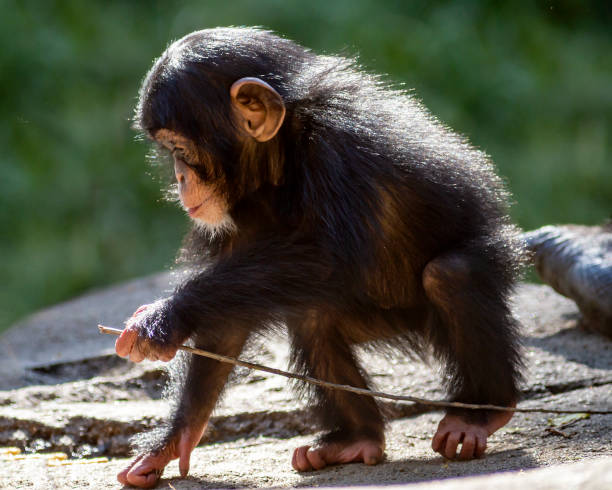chimpanzee: (111, 17, 352, 252)
